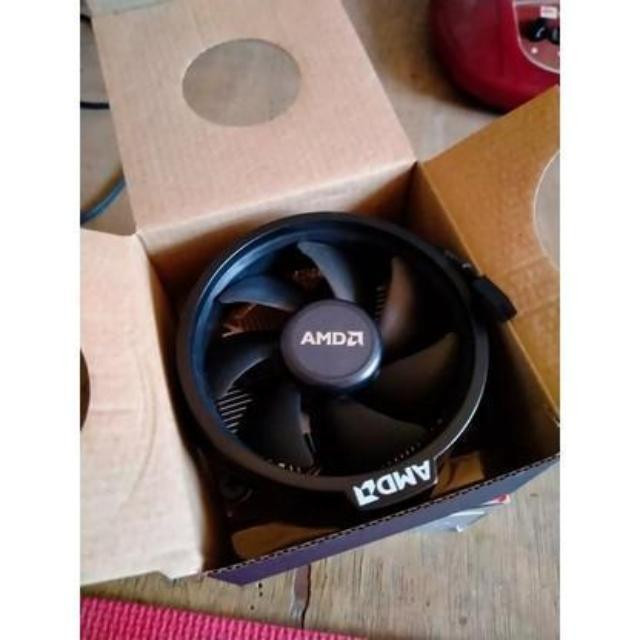CPU_Fan: (174, 210, 492, 508)
